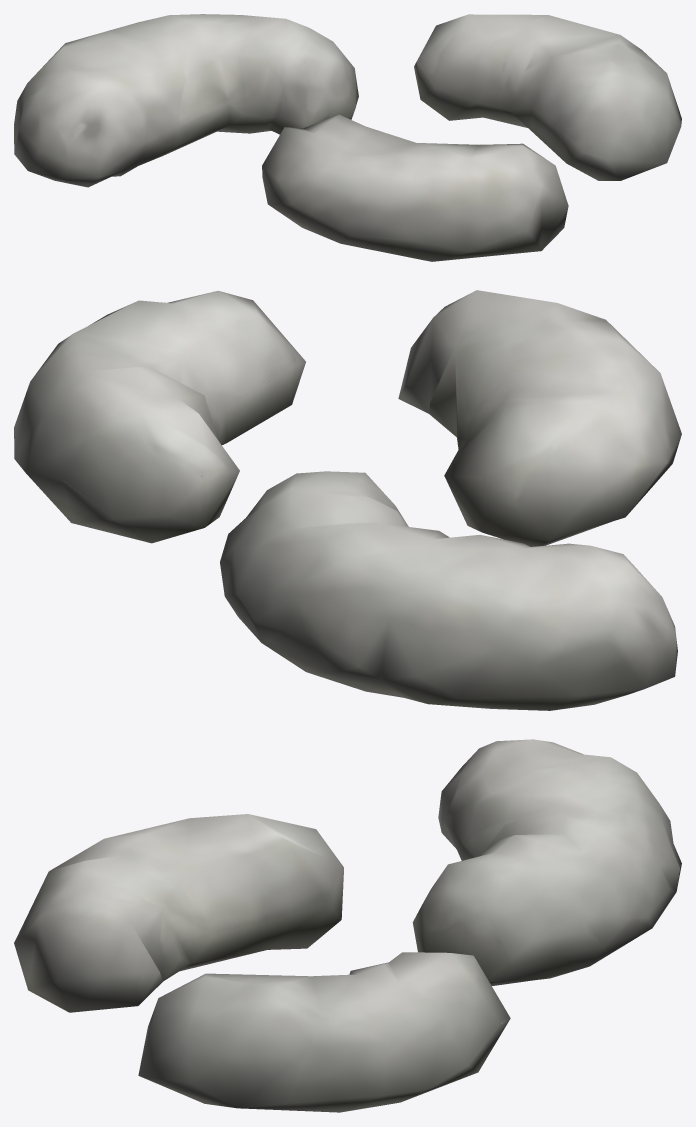
File: ant_larvae.glb
The picture shows the model from 3 angles, top to bottom: view 1: azimuth 30°, elevation 25°; view 2: azimuth 150°, elevation 25°; view 3: azimuth 270°, elevation 25°; orthographic projection. The views are drawn at different scales.
Visible parts, largest first — view 1: tripo_node_08fc2f46-dde0-4992-b9cb-f3b9b3dca7ff; view 2: tripo_node_08fc2f46-dde0-4992-b9cb-f3b9b3dca7ff; view 3: tripo_node_08fc2f46-dde0-4992-b9cb-f3b9b3dca7ff.
Boxes of the visible parts, left/top/right/bottom form: tripo_node_08fc2f46-dde0-4992-b9cb-f3b9b3dca7ff: left=14, top=14, right=681, bottom=261; tripo_node_08fc2f46-dde0-4992-b9cb-f3b9b3dca7ff: left=14, top=290, right=681, bottom=710; tripo_node_08fc2f46-dde0-4992-b9cb-f3b9b3dca7ff: left=14, top=739, right=681, bottom=1112.
Size of the model in its own units: 0.9787 by 0.1605 by 0.8748.
Materials: 1 (1 with a texture image).
